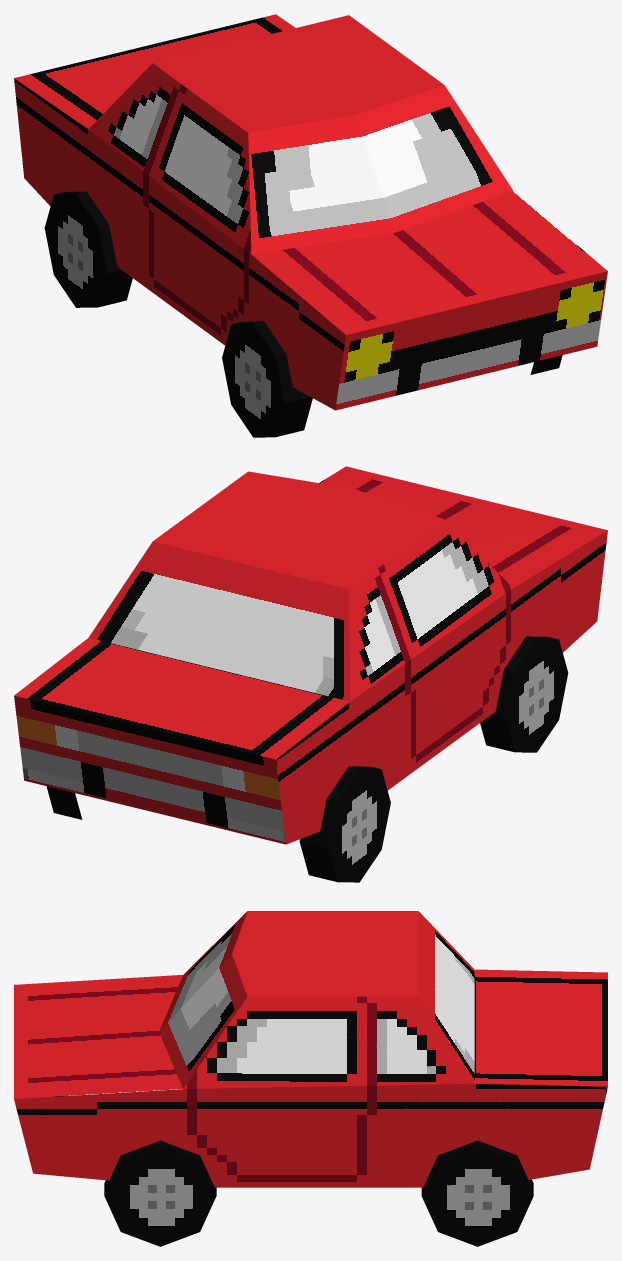
File: carro.gltf
The picture shows the model from 3 angles, top to bottom: view 1: azimuth 30°, elevation 25°; view 2: azimuth 150°, elevation 25°; view 3: azimuth 270°, elevation 25°; orthographic projection. The views are drawn at different scales.
Parts seen in each view (by area): view 1: Carro; view 2: Carro; view 3: Carro.
Part boxes in pixels (x1,y1,x2,y2): Carro: (14, 14, 607, 437); Carro: (14, 466, 607, 882); Carro: (14, 911, 607, 1246).
Size of the model in its own units: 0.9916 by 0.8634 by 2.01.
1 material, 1 textured.
